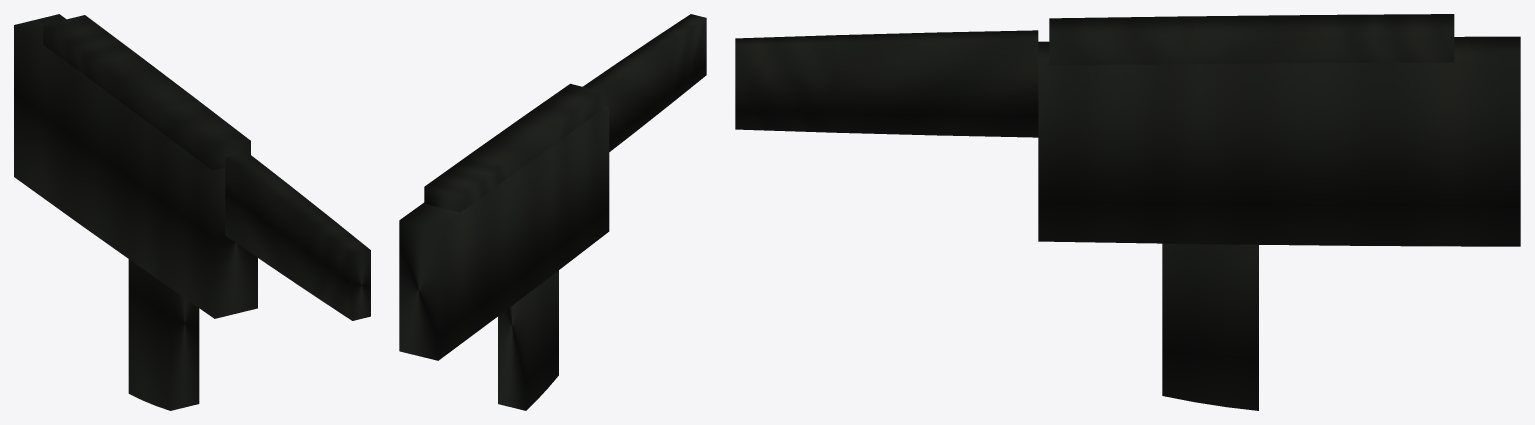
The model's file is wpn_mp5a3_tactical.glb.
3 views of the same model, side by side, from view 1: azimuth 30°, elevation 25°; view 2: azimuth 150°, elevation 25°; view 3: azimuth 270°, elevation 25° (orthographic). The views are drawn at different scales.
Parts seen in each view (by area): view 1: SubMesh_0_Receiver, SubMesh_3_BarrelSight, SubMesh_1_Action, SubMesh_2_Magazine; view 2: SubMesh_0_Receiver, SubMesh_3_BarrelSight, SubMesh_1_Action, SubMesh_2_Magazine; view 3: SubMesh_0_Receiver, SubMesh_3_BarrelSight, SubMesh_1_Action, SubMesh_2_Magazine.
Part boxes in pixels (<box>): SubMesh_0_Receiver: <box>14,14,257,318</box>; SubMesh_3_BarrelSight: <box>225,152,370,320</box>; SubMesh_1_Action: <box>43,15,250,170</box>; SubMesh_2_Magazine: <box>128,259,199,410</box>; SubMesh_0_Receiver: <box>399,105,609,360</box>; SubMesh_3_BarrelSight: <box>583,14,706,151</box>; SubMesh_1_Action: <box>424,83,603,212</box>; SubMesh_2_Magazine: <box>498,270,558,410</box>; SubMesh_0_Receiver: <box>1038,36,1520,246</box>; SubMesh_3_BarrelSight: <box>735,30,1038,137</box>; SubMesh_1_Action: <box>1049,14,1454,65</box>; SubMesh_2_Magazine: <box>1162,243,1258,410</box>.
Bounding box in the file's own units: 0.046 × 0.3004 × 0.57.
Materials: 1 (1 with a texture image).
